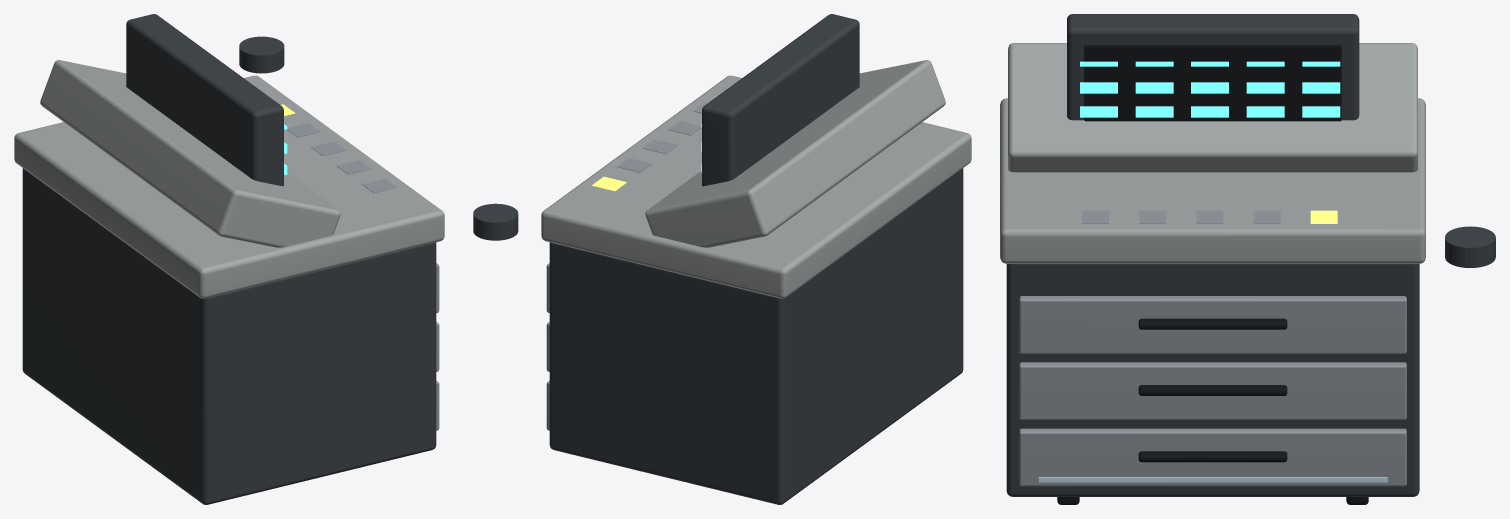
Rendered from ZH_ENV_Control_Console_03.fbx.
3 renders of one model, left to right at view 1: azimuth 30°, elevation 25°; view 2: azimuth 150°, elevation 25°; view 3: azimuth 270°, elevation 25°, orthographic. The views are drawn at different scales.
Visible parts, largest first — view 1: Console module | base.003, Console module | countertop.003, Console | sloping fascia.003, Console | diagnostics | frame.003, Console | interface knob.002; view 2: Console module | base.003, Console module | countertop.003, Console | sloping fascia.003, Console | diagnostics | frame.003, Console | interface knob.002; view 3: Console module | countertop.003, Console | sloping fascia.003, Console module | base.003, Console module | drawer.011, Console module | drawer.010, Console module | drawer.009, Console | diagnostics | screen.003, Console | diagnostics | frame.003, Console | toe light.003, Console | interface knob.002, Console module | pull.009, Console module | pull.011 (+1 smaller).
Boxes of the visible parts, x1,y1,x2,y2 form: Console module | base.003: (22, 168, 436, 504); Console module | countertop.003: (14, 75, 444, 298); Console | sloping fascia.003: (40, 60, 340, 247); Console | diagnostics | frame.003: (126, 14, 283, 186); Console | interface knob.002: (239, 36, 284, 73); Console module | base.003: (549, 168, 963, 504); Console module | countertop.003: (541, 75, 971, 298); Console | sloping fascia.003: (645, 60, 945, 247); Console | diagnostics | frame.003: (702, 14, 859, 186); Console | interface knob.002: (473, 203, 518, 240); Console module | countertop.003: (1000, 98, 1425, 263); Console | sloping fascia.003: (1008, 43, 1417, 172); Console module | base.003: (1006, 264, 1419, 496); Console module | drawer.011: (1019, 296, 1406, 353); Console module | drawer.010: (1019, 362, 1406, 419); Console module | drawer.009: (1019, 428, 1406, 486); Console | diagnostics | screen.003: (1084, 45, 1341, 121); Console | diagnostics | frame.003: (1067, 14, 1359, 120); Console | toe light.003: (1038, 477, 1387, 482); Console | interface knob.002: (1445, 226, 1495, 267); Console module | pull.009: (1138, 451, 1287, 462); Console module | pull.011: (1138, 318, 1287, 329).
Size of the model in its own units: 1.18 by 1.46 by 1.56.
